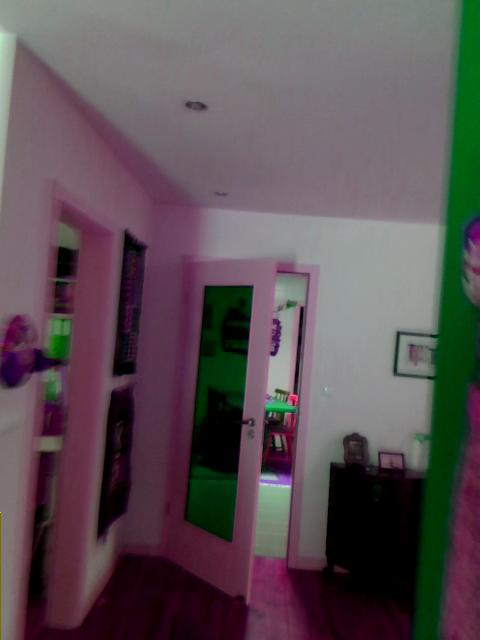semi_door: (157, 250, 319, 608)
